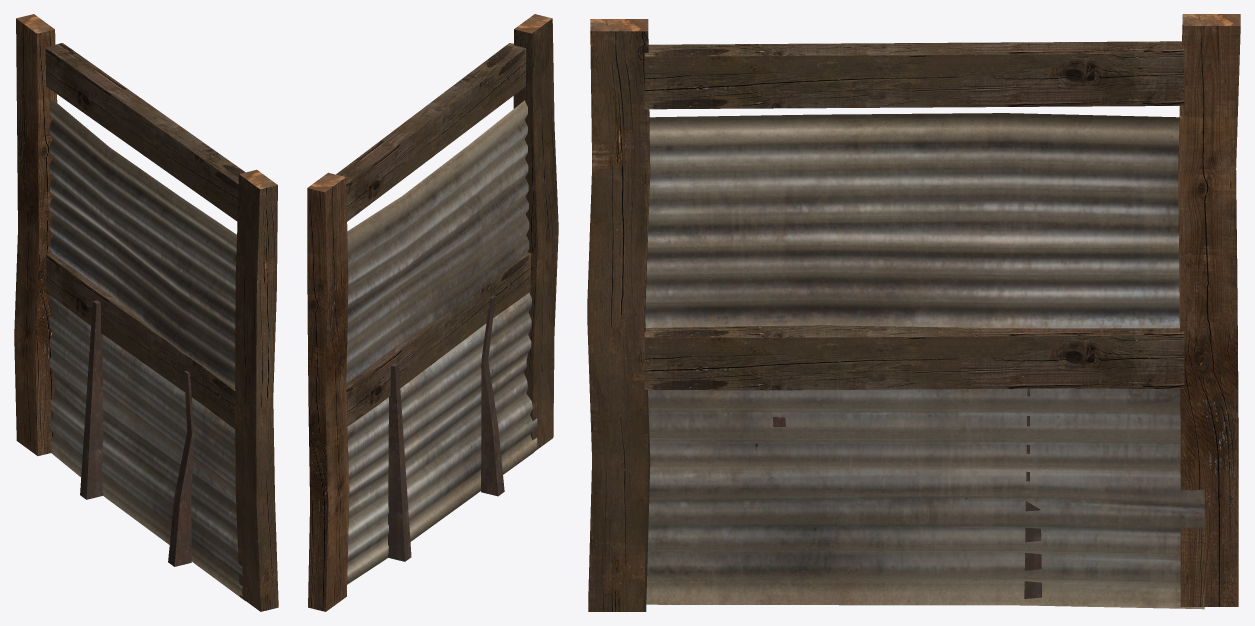
The model's file is trench-decor3.fbx.
3 renders of one model, left to right at view 1: azimuth 30°, elevation 25°; view 2: azimuth 150°, elevation 25°; view 3: azimuth 270°, elevation 25°, orthographic. The views are drawn at different scales.
Visible parts, largest first — view 1: Object012, Plane010, Box095, Box083, Box105, Box102, Box020, Box106; view 2: Object012, Plane010, Box083, Box095, Box105, Box102, Box020, Box106; view 3: Plane010, Object012, Box105, Box095, Box102, Box083, Box020.
Boxes of the visible parts, <box> form: Object012: <box>49,99,236,387</box>; Plane010: <box>49,296,244,600</box>; Box095: <box>235,169,278,611</box>; Box083: <box>14,14,57,455</box>; Box105: <box>45,43,245,221</box>; Box102: <box>46,253,235,428</box>; Box020: <box>80,300,103,499</box>; Box106: <box>168,370,194,566</box>; Object012: <box>346,100,529,383</box>; Plane010: <box>347,292,537,584</box>; Box083: <box>307,172,349,611</box>; Box095: <box>513,14,558,452</box>; Box105: <box>336,43,526,221</box>; Box102: <box>346,252,531,426</box>; Box020: <box>388,363,411,561</box>; Box106: <box>481,295,504,496</box>; Plane010: <box>646,388,1204,609</box>; Object012: <box>645,113,1179,328</box>; Box105: <box>644,41,1184,109</box>; Box095: <box>587,19,650,611</box>; Box102: <box>644,325,1184,390</box>; Box083: <box>1178,14,1240,606</box>; Box020: <box>1024,388,1041,598</box>.
Size of the model in its own units: 38.85 by 374 by 379.
